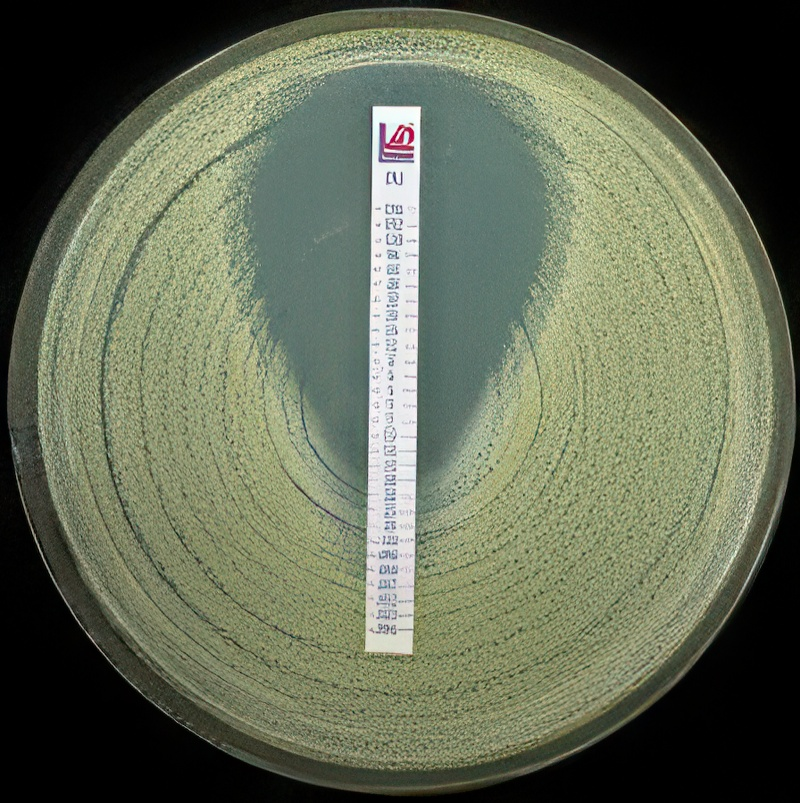line: (364, 105, 422, 654)
zone: (246, 63, 551, 487)
